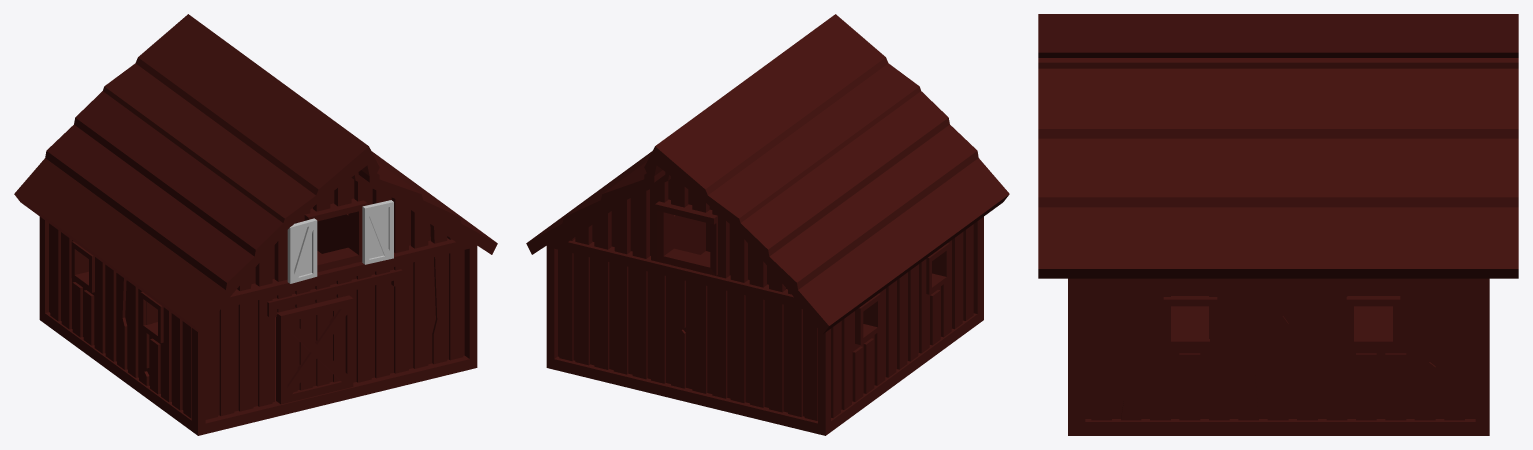
File: farm.barn.t1.glb
3 renders of one model, left to right at view 1: azimuth 30°, elevation 25°; view 2: azimuth 150°, elevation 25°; view 3: azimuth 270°, elevation 25°, orthographic. The views are drawn at different scales.
Size of the model in its own units: 0.9689 by 0.7908 by 1.
